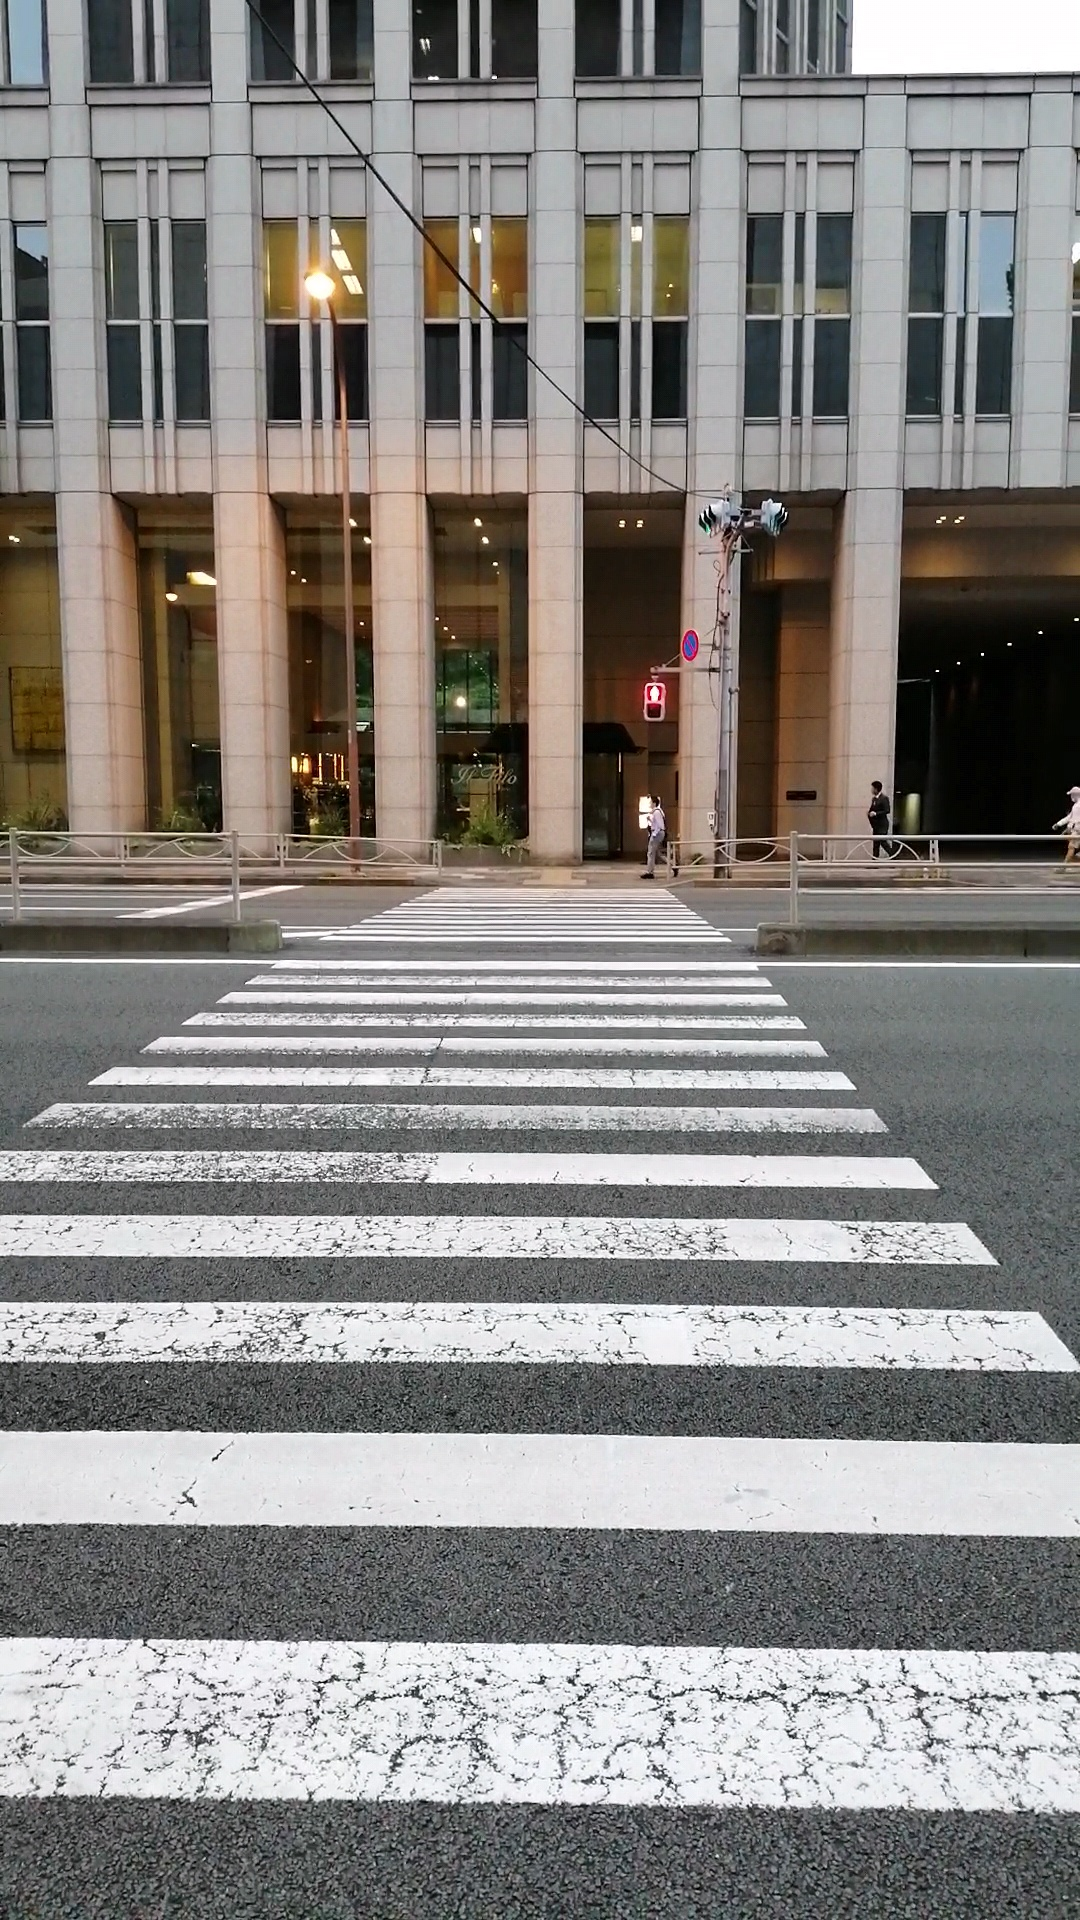red: (644, 682, 666, 721)
